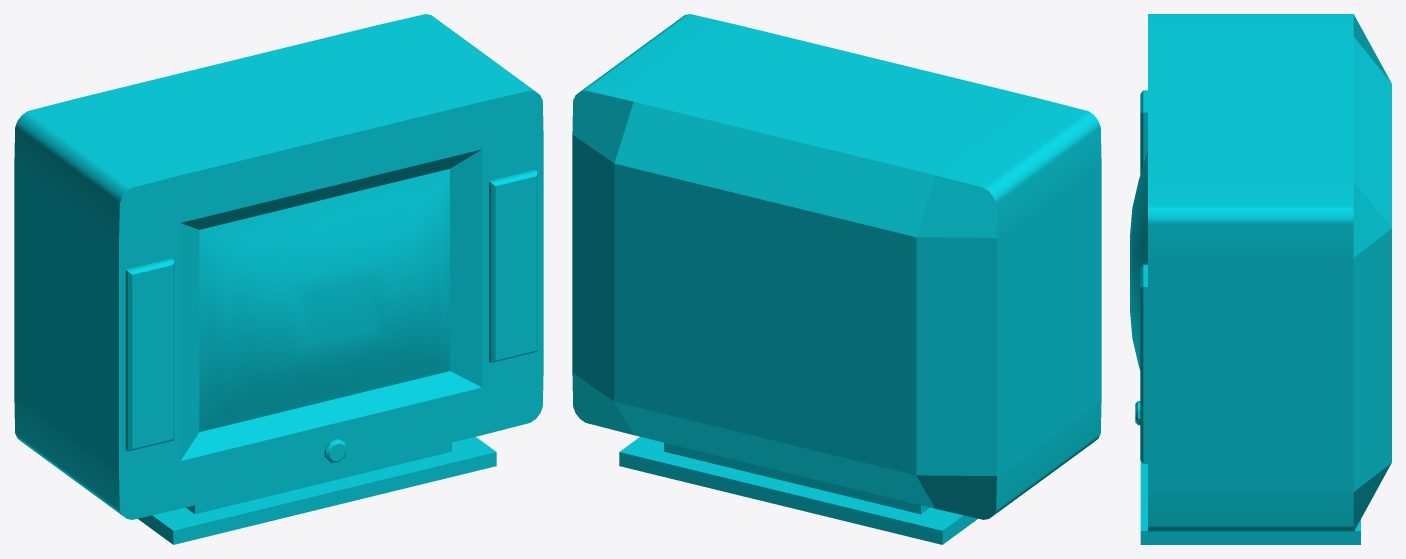
Rendered from Muse_tv4_exp_001.fbx.
The picture shows the model from 3 angles, left to right: view 1: azimuth 30°, elevation 25°; view 2: azimuth 150°, elevation 25°; view 3: azimuth 270°, elevation 25°; orthographic projection.
Parts seen in each view (by area): view 1: pCube19, pCube29, pCube30; view 2: pCube19; view 3: pCube19, pCube30, pCube29.
Boxes of the visible parts, x1,y1,x2,y2 form: pCube19: (14, 14, 543, 544); pCube29: (125, 258, 174, 451); pCube30: (489, 170, 537, 362); pCube19: (572, 14, 1101, 544); pCube19: (1130, 14, 1391, 544); pCube30: (1140, 264, 1147, 463); pCube29: (1140, 90, 1147, 174).
Bounding box in the file's own units: 3.13 × 2.57 × 1.7.
